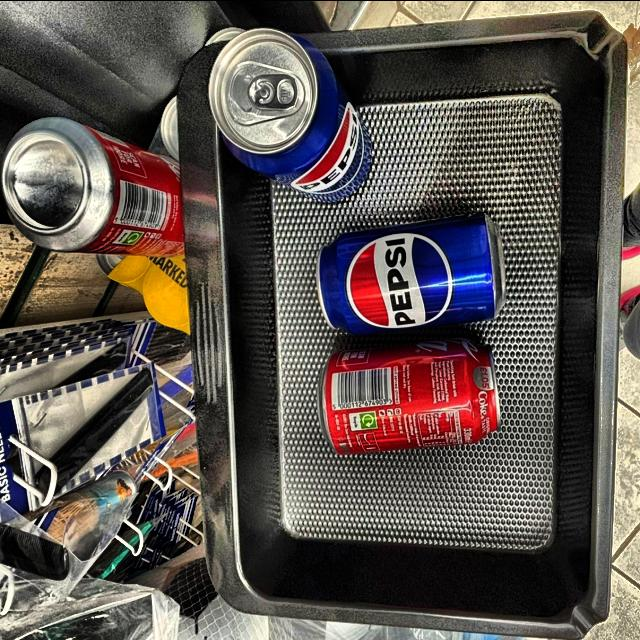coke-can: (316, 333, 500, 442), (7, 132, 179, 238)
pepsi-can: (200, 22, 368, 190), (308, 218, 506, 328)
